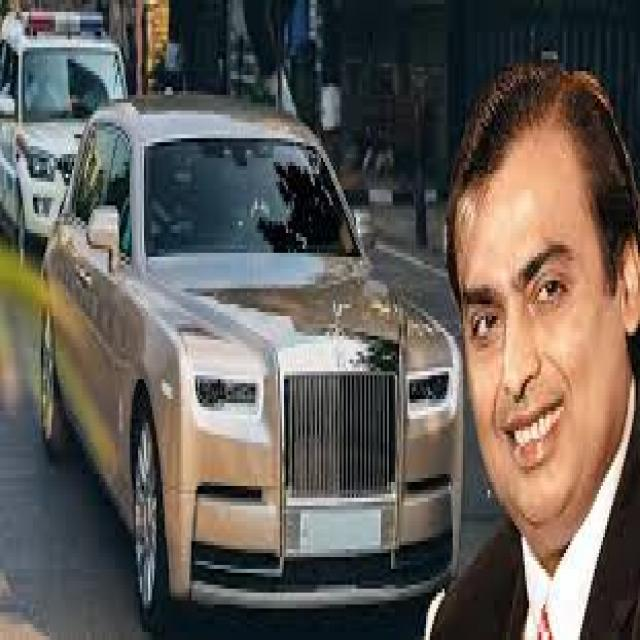car: (44, 97, 460, 608), (4, 18, 72, 232)
person: (454, 77, 636, 640)
